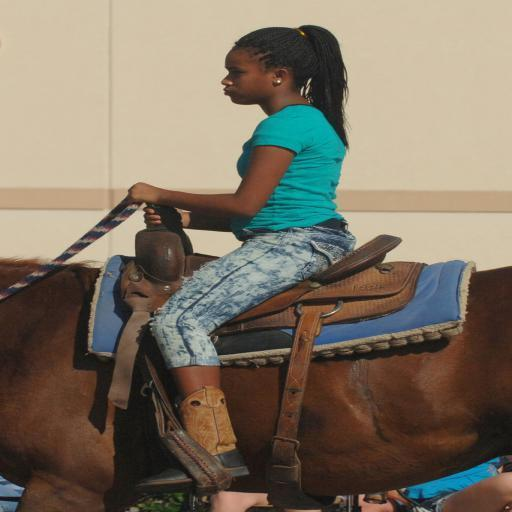horse: (0, 254, 512, 512)
